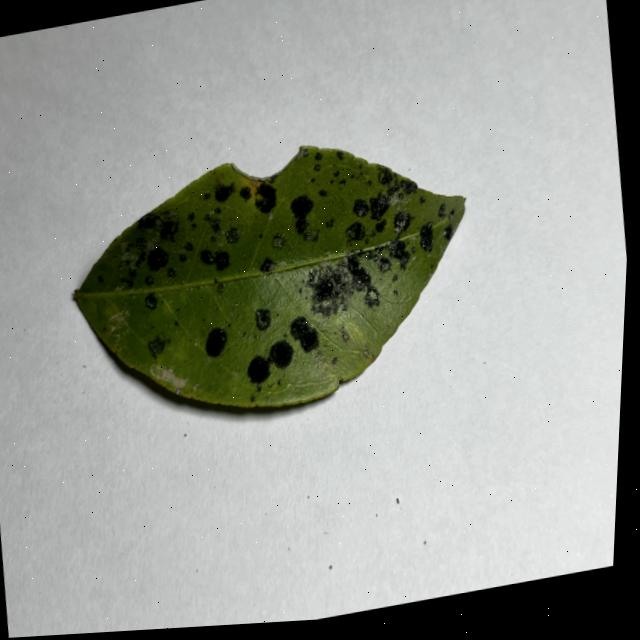sooty_mold: (76, 145, 464, 406)
